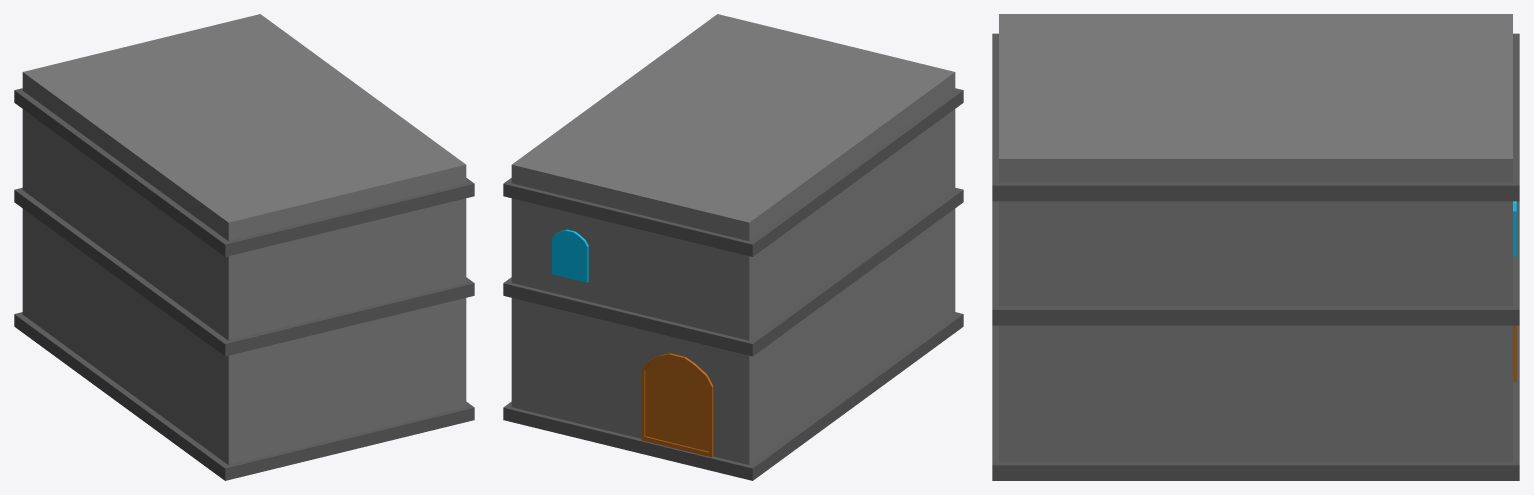
File: basic_house.fbx
3 renders of one model, left to right at view 1: azimuth 30°, elevation 25°; view 2: azimuth 150°, elevation 25°; view 3: azimuth 270°, elevation 25°, orthographic. The views are drawn at different scales.
Parts seen in each view (by area): view 1: House, House Floors; view 2: House, House Floors, House Door, House Window; view 3: House, House Floors.
Part boxes in pixels (box(x1,y1,x2,y2)): House: box(22, 14, 466, 464); House Floors: box(14, 88, 474, 480); House: box(511, 14, 955, 464); House Floors: box(503, 88, 963, 480); House Door: box(641, 353, 713, 457); House Window: box(552, 229, 588, 282); House: box(999, 14, 1512, 461); House Floors: box(992, 33, 1519, 480).
Bounding box in the file's own units: 525 × 513 × 769.
